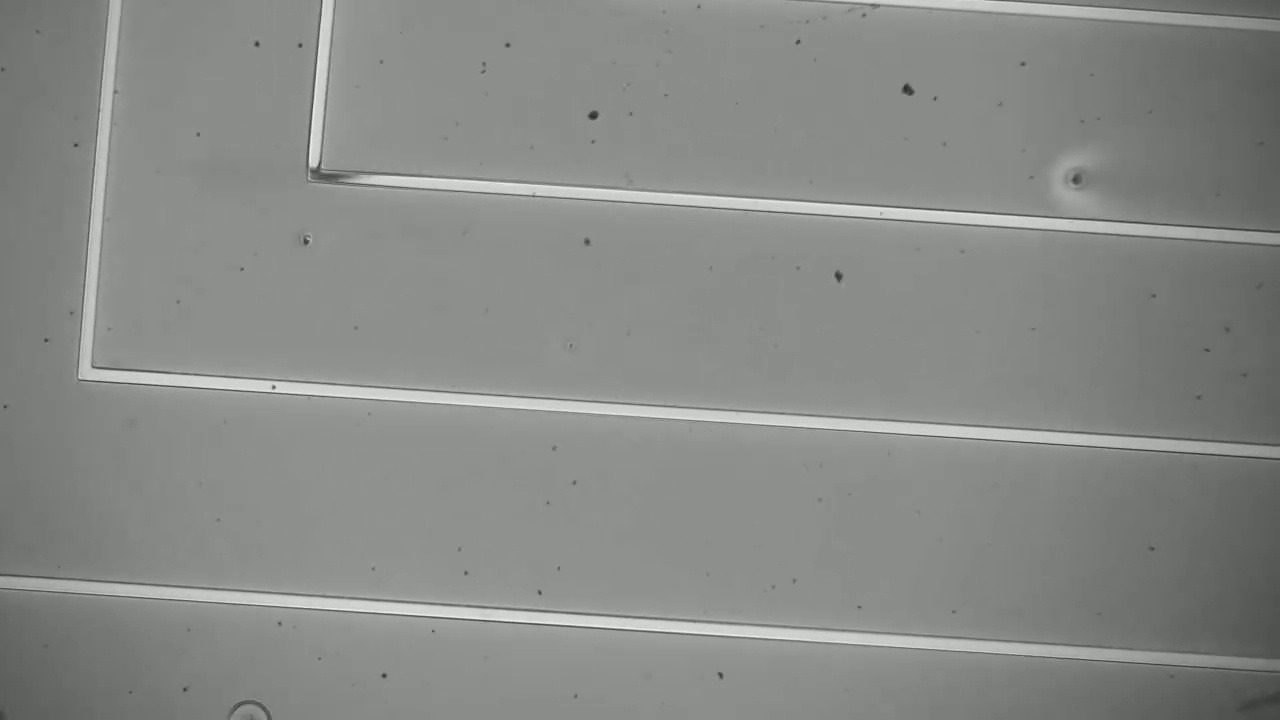gray_line: (294, 159, 390, 198)
